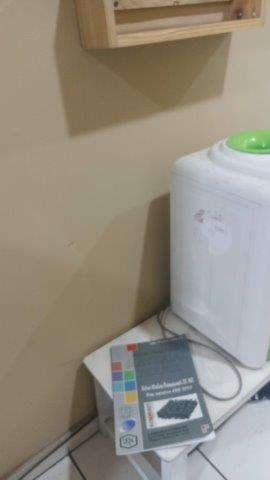kertas: (109, 333, 215, 454)
